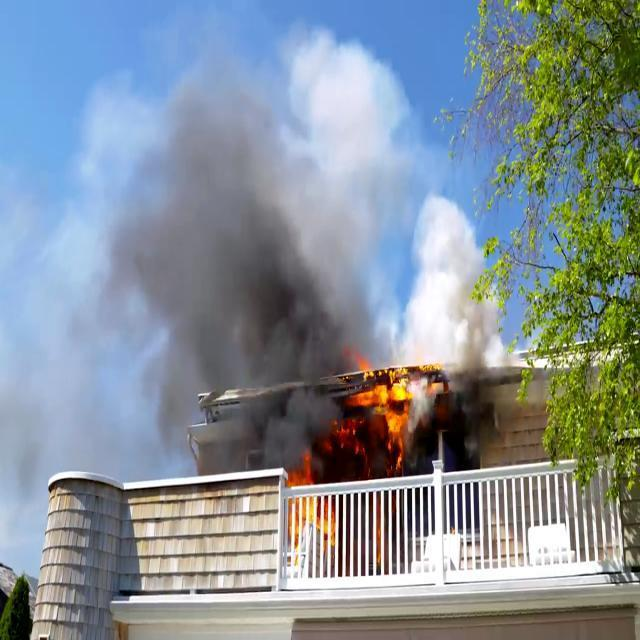Fire: (348, 362, 427, 457), (281, 471, 330, 539)
Smoke: (0, 47, 416, 470), (390, 192, 528, 462)
